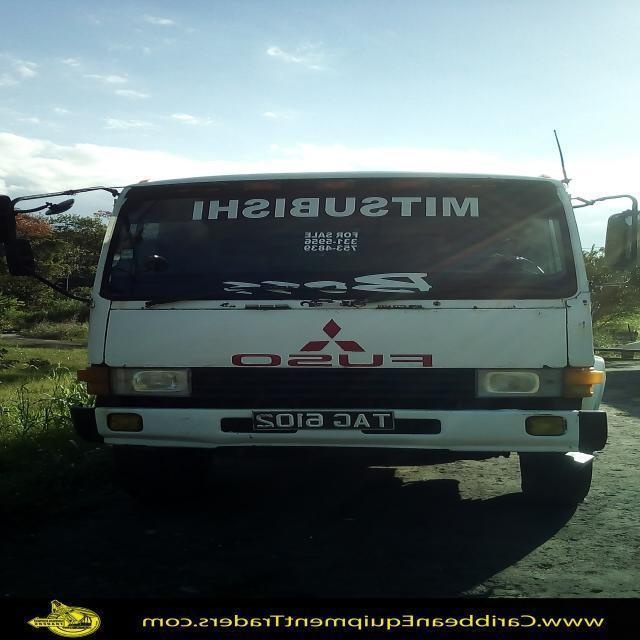truck: (0, 124, 639, 519)
